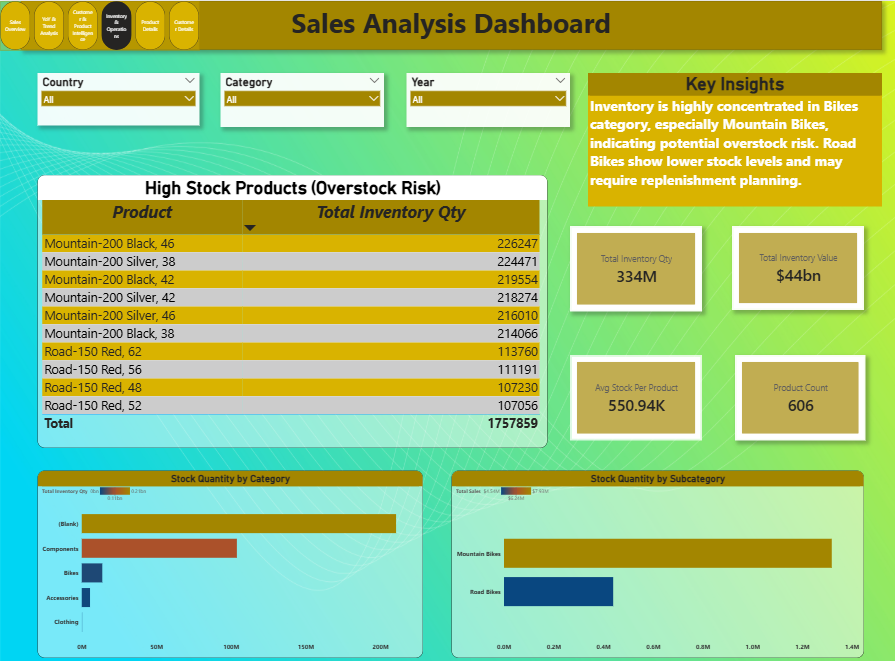

The page's visual inventory and layout, read from the dashboard file:
{"tool":"powerbi","page":{"name":"Inventory & Operations","canvas":[2400,1800],"ordinal":3},"visuals":[{"type":"textbox","box":[55,0,2295,130],"z":0},{"type":"cardVisual","fields":{"Data":["FactProductInventory.Total Inventory Value"]},"box":[1952,600,352,224],"z":1000},{"type":"cardVisual","fields":{"Data":["DimProduct.Avg Stock Per Product"]},"box":[1520,944,352,228],"z":2000},{"type":"cardVisual","fields":{"Data":["DimProduct.Product Count"]},"box":[1960,944,348,228],"z":3000},{"type":"barChart","title":"Stock Quantity by Subcategory","fields":{"Category":["DimProductSubcategory.EnglishProductSubcategoryName"],"Y":["FactProductInventory.Total Inventory Qty"]},"box":[1204,1252,1100,500],"z":4000},{"type":"tableEx","title":"High Stock Products (Overstock Risk)","fields":{"Values":["DimProduct.EnglishProductName","FactProductInventory.Total Inventory Qty"]},"box":[100,464,1360,728],"z":5000},{"type":"cardVisual","fields":{"Data":["FactProductInventory.Total Inventory Qty"]},"box":[1520,600,352,228],"z":6000},{"type":"barChart","title":"Stock Quantity by Category","fields":{"Y":["FactProductInventory.Total Inventory Qty"],"Category":["DimProductCategory.EnglishProductCategoryName"]},"box":[100,1252,1028,500],"z":7000},{"type":"slicer","fields":{"Values":["DimDate.Date.Variation.Date Hierarchy.Year"]},"box":[1084,192,436,144],"z":8000},{"type":"slicer","fields":{"Values":["DimProductCategory.EnglishProductCategoryName"]},"box":[588,192,436,144],"z":9000},{"type":"slicer","fields":{"Values":["DimSalesTerritory.SalesTerritoryCountry"]},"box":[100,192,432,140],"z":10000},{"type":"textbox","title":"Key Insights","box":[1568,192,784,356],"z":11000},{"type":"pageNavigator","box":[0,0,532,132],"z":12000}]}

Visuals, with their boxes in screenshot pixels (x1, y1, x2, y2), scaled from the page's 2400x1800 canvas onto the 895x661 screenshot:
textbox: <bbox>21, 0, 876, 48</bbox>
cardVisual - FactProductInventory.Total Inventory Value: <bbox>728, 220, 859, 303</bbox>
cardVisual - DimProduct.Avg Stock Per Product: <bbox>567, 347, 698, 430</bbox>
cardVisual - DimProduct.Product Count: <bbox>731, 347, 861, 430</bbox>
"Stock Quantity by Subcategory" barChart: <bbox>449, 460, 859, 643</bbox>
"High Stock Products (Overstock Risk)" tableEx: <bbox>37, 170, 544, 438</bbox>
cardVisual - FactProductInventory.Total Inventory Qty: <bbox>567, 220, 698, 304</bbox>
"Stock Quantity by Category" barChart: <bbox>37, 460, 421, 643</bbox>
slicer - DimDate.Date.Variation.Date Hierarchy.Year: <bbox>404, 71, 567, 123</bbox>
slicer - DimProductCategory.EnglishProductCategoryName: <bbox>219, 71, 382, 123</bbox>
slicer - DimSalesTerritory.SalesTerritoryCountry: <bbox>37, 71, 198, 122</bbox>
"Key Insights" textbox: <bbox>585, 71, 877, 201</bbox>
pageNavigator: <bbox>0, 0, 198, 48</bbox>
